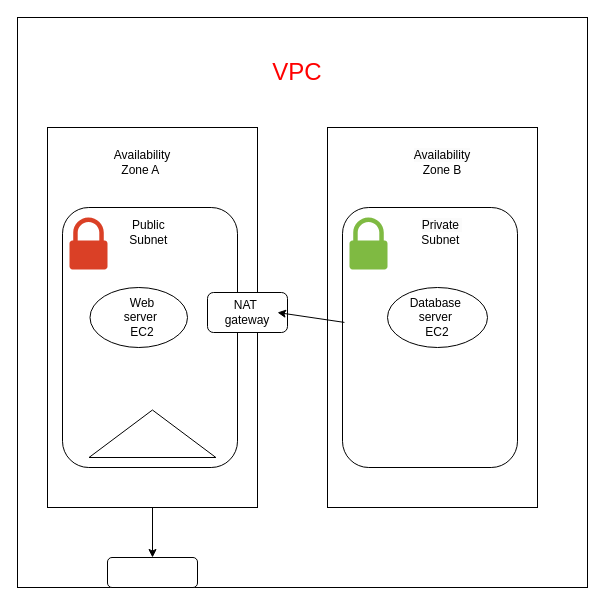
The diagram is 605 pixels wide and 605 high, and some of its shapes have lost their labels. The shapes that lost their labels are listed below. From the top down, each one's centre as x and y in pixels, then its label:
(x=152, y=433): Internet Gateway
(x=152, y=572): Internet
